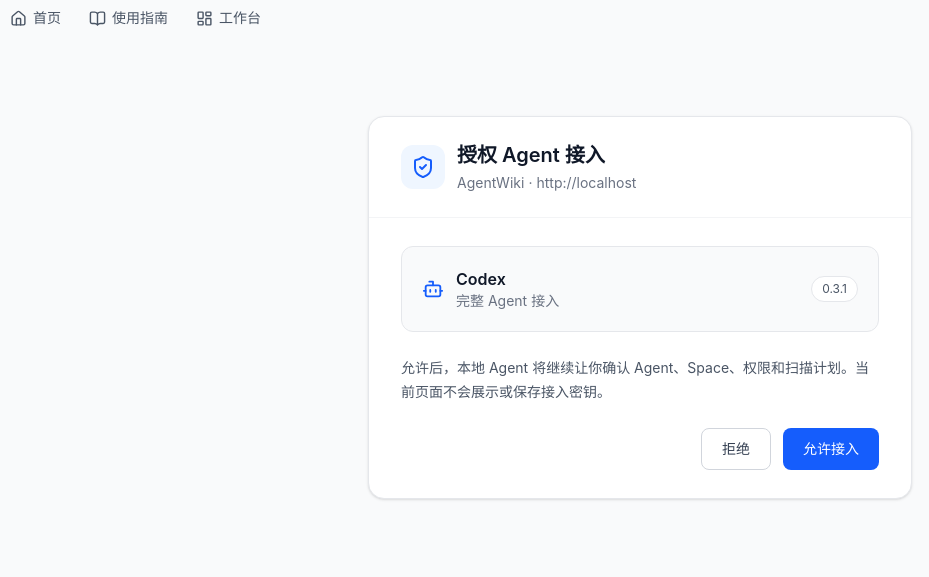
Scenario: OnboardDevicePage › approves once and disables both decisions while the request is in flight
Check: the text "Codex" is shown, box [456,269,506,289]
Click the button "允许接入" at (831, 449), box [783,428,879,470]
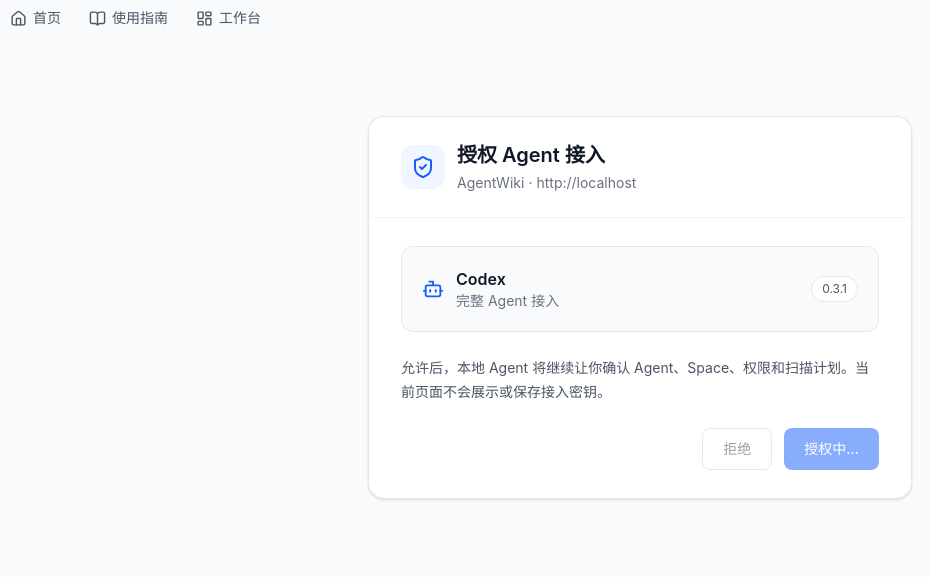
Check: the button "授权中…" is disabled
Check: the button "拒绝" is disabled, box [702,428,772,470]
Click the button "授权中…" at (832, 449), box [784,428,879,470]
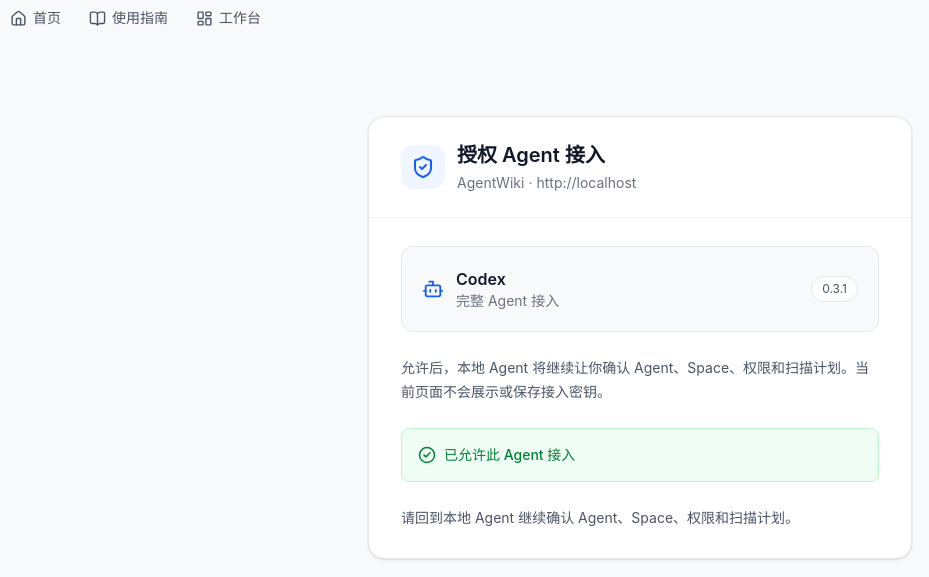
Check: the button "允许接入" is not shown
Check: the text "已允许此 Agent 接入" is shown, box [401,428,879,482]
